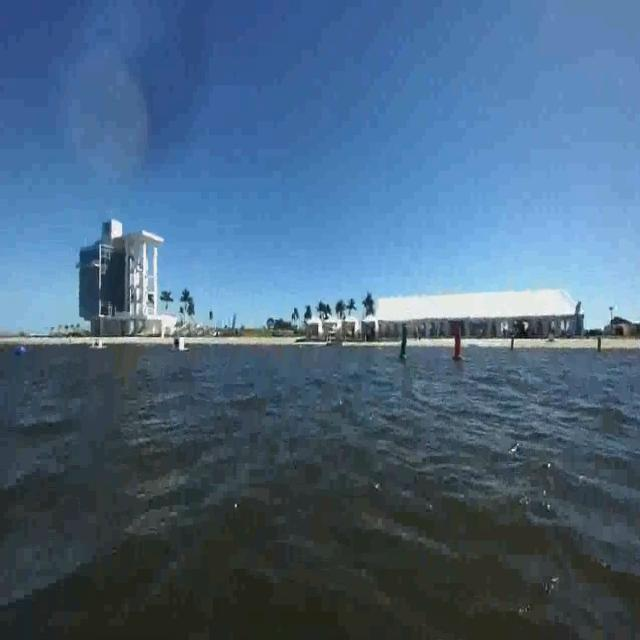green-column-buoy: (398, 319, 414, 368)
red-column-buoy: (450, 324, 470, 367)
